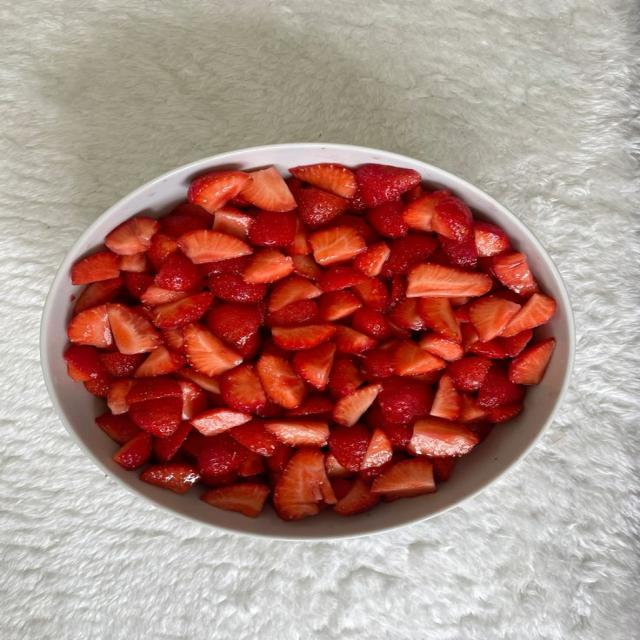strawberry sliced: (274, 449, 336, 520), (184, 325, 242, 376), (207, 304, 261, 358), (407, 263, 492, 297), (355, 164, 420, 207), (408, 417, 479, 456), (256, 353, 306, 408), (187, 171, 251, 213), (107, 304, 160, 354), (378, 377, 433, 424), (179, 230, 253, 264), (200, 483, 270, 518), (371, 459, 435, 497), (241, 167, 295, 212), (500, 294, 556, 337), (382, 234, 438, 277), (309, 226, 366, 266), (290, 164, 357, 198), (470, 296, 520, 341), (220, 364, 266, 412), (477, 363, 524, 409), (509, 338, 555, 384), (198, 433, 248, 475), (129, 397, 181, 437), (492, 253, 539, 297), (105, 217, 159, 255), (297, 188, 348, 228), (67, 305, 113, 348), (334, 384, 381, 426), (328, 425, 370, 471), (404, 190, 450, 232), (294, 343, 335, 390), (432, 196, 473, 242), (154, 252, 202, 291), (269, 276, 322, 311), (420, 298, 461, 342), (393, 341, 446, 375), (229, 420, 279, 456), (265, 419, 329, 447), (140, 464, 199, 494), (74, 277, 123, 313), (469, 330, 532, 358), (242, 249, 293, 283), (249, 211, 297, 247), (159, 204, 211, 237), (190, 408, 251, 436), (334, 479, 379, 516), (272, 324, 336, 350), (207, 275, 266, 303), (135, 346, 186, 377), (154, 421, 192, 462), (72, 252, 119, 285), (447, 357, 491, 392), (367, 201, 408, 238), (113, 432, 152, 470), (328, 357, 364, 398), (127, 377, 181, 404), (266, 300, 319, 327), (334, 214, 380, 245), (213, 206, 253, 241), (96, 413, 140, 444), (431, 374, 460, 420), (361, 428, 393, 469), (319, 266, 369, 292), (351, 278, 389, 312), (333, 325, 377, 354), (419, 333, 464, 361), (439, 235, 477, 268), (353, 308, 393, 339), (320, 291, 361, 321), (474, 222, 510, 256), (177, 367, 219, 396), (354, 243, 390, 276), (147, 232, 178, 270), (390, 299, 426, 330), (285, 395, 333, 418), (179, 381, 207, 420), (360, 349, 394, 381), (100, 353, 145, 377), (267, 437, 295, 474), (140, 284, 187, 305), (107, 379, 134, 415), (287, 218, 311, 256), (380, 422, 412, 450), (180, 428, 207, 461), (458, 394, 486, 424), (293, 255, 322, 281), (124, 273, 153, 298), (487, 403, 523, 423), (170, 202, 210, 219), (118, 252, 152, 272), (325, 453, 352, 478), (431, 457, 456, 482), (200, 471, 238, 487), (492, 288, 527, 305), (330, 477, 353, 502), (161, 327, 183, 353), (389, 276, 406, 309), (83, 378, 111, 398), (450, 297, 470, 323), (467, 421, 493, 441), (256, 400, 284, 418), (286, 176, 306, 200), (402, 185, 426, 203), (350, 188, 366, 213), (466, 320, 470, 321)
